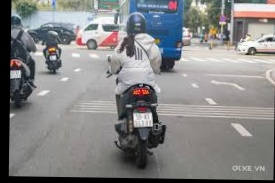Bien-so: (133, 111, 153, 129), (10, 70, 21, 79), (49, 54, 56, 60)
